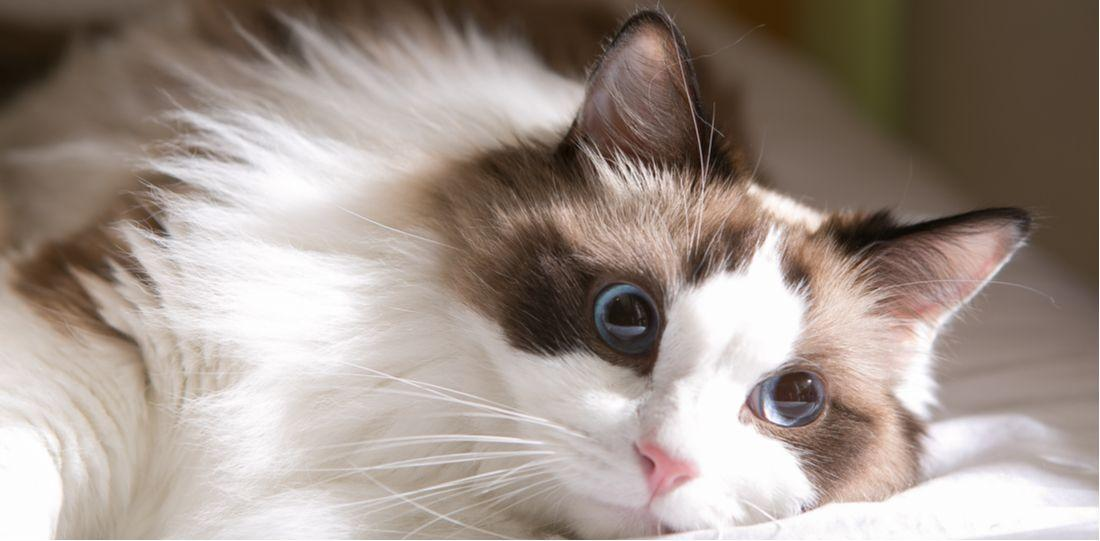ragdoll: (460, 1, 1033, 541)
